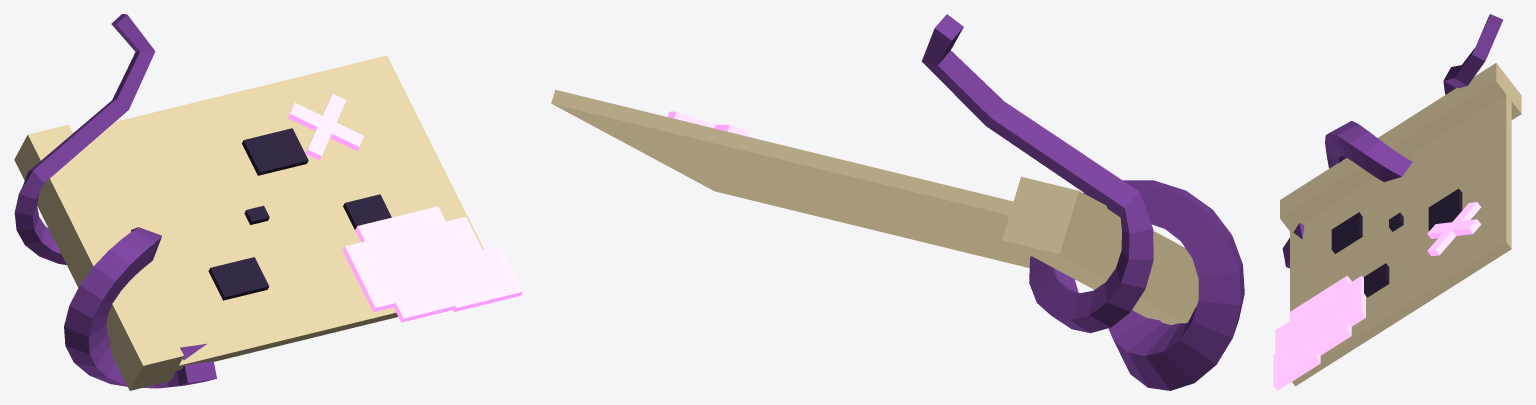
The picture shows the model from 3 angles, left to right: view 1: azimuth 30°, elevation 25°; view 2: azimuth 150°, elevation 25°; view 3: azimuth 270°, elevation 25°; orthographic projection. The views are drawn at different scales.
Visible parts, largest first — view 1: R035_Main, R035_Glow, R035_Accent, R035_Trim; view 2: R035_Main, R035_Accent; view 3: R035_Main, R035_Glow, R035_Accent, R035_Trim.
Part boxes in pixels (x1,y1,x2,y2): R035_Main: (14, 55, 483, 390); R035_Glow: (288, 94, 522, 322); R035_Accent: (14, 14, 216, 388); R035_Trim: (208, 128, 391, 300); R035_Main: (551, 89, 1198, 324); R035_Accent: (921, 14, 1244, 390); R035_Main: (1280, 63, 1521, 386); R035_Glow: (1273, 202, 1481, 390); R035_Accent: (1282, 14, 1502, 268); R035_Trim: (1331, 188, 1462, 297).
Size of the model in its own units: 1.87 by 1.3 by 1.03.
